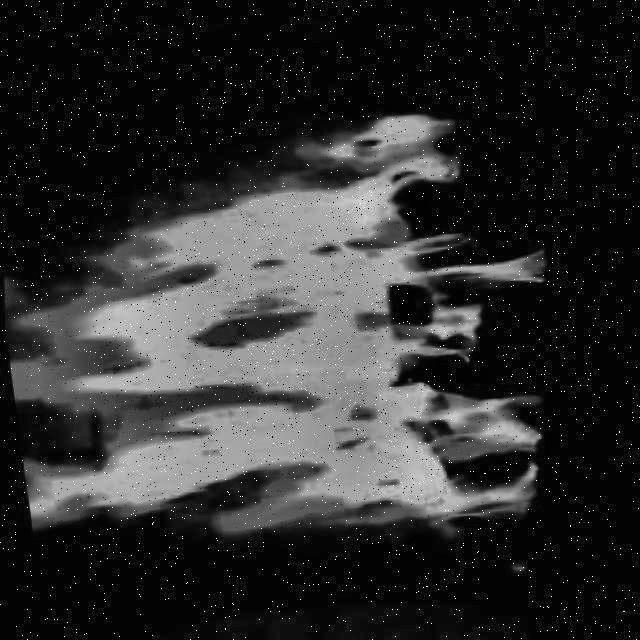Fire: (1, 66, 598, 621)
